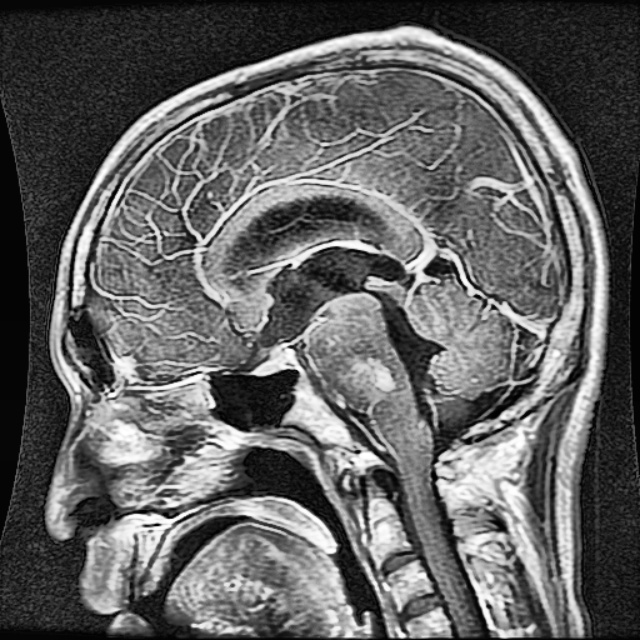Meningioma: (340, 354, 397, 410)
